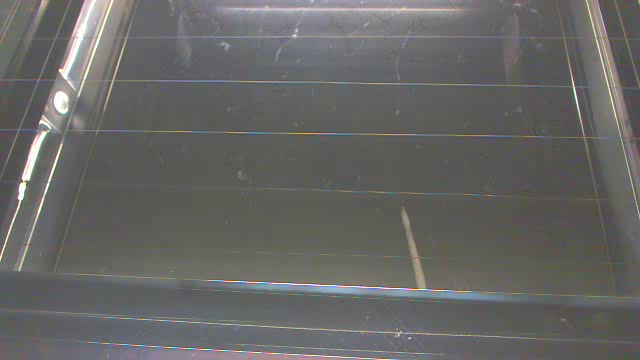alpha: (393, 196, 437, 290)
